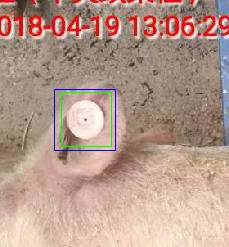text: (61, 92, 111, 146)
